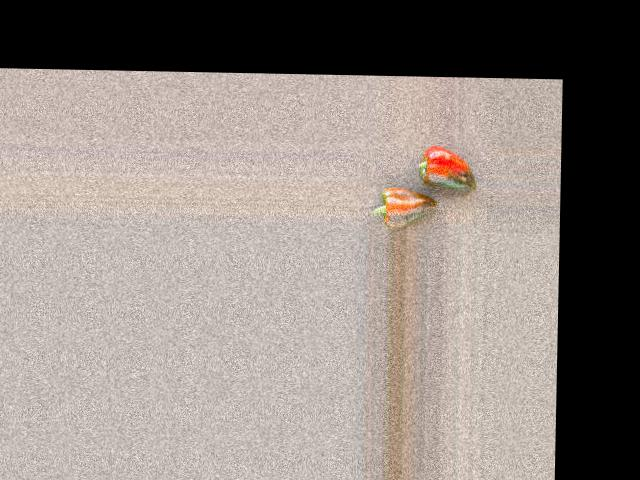bell_pepper: (397, 143, 480, 192)
